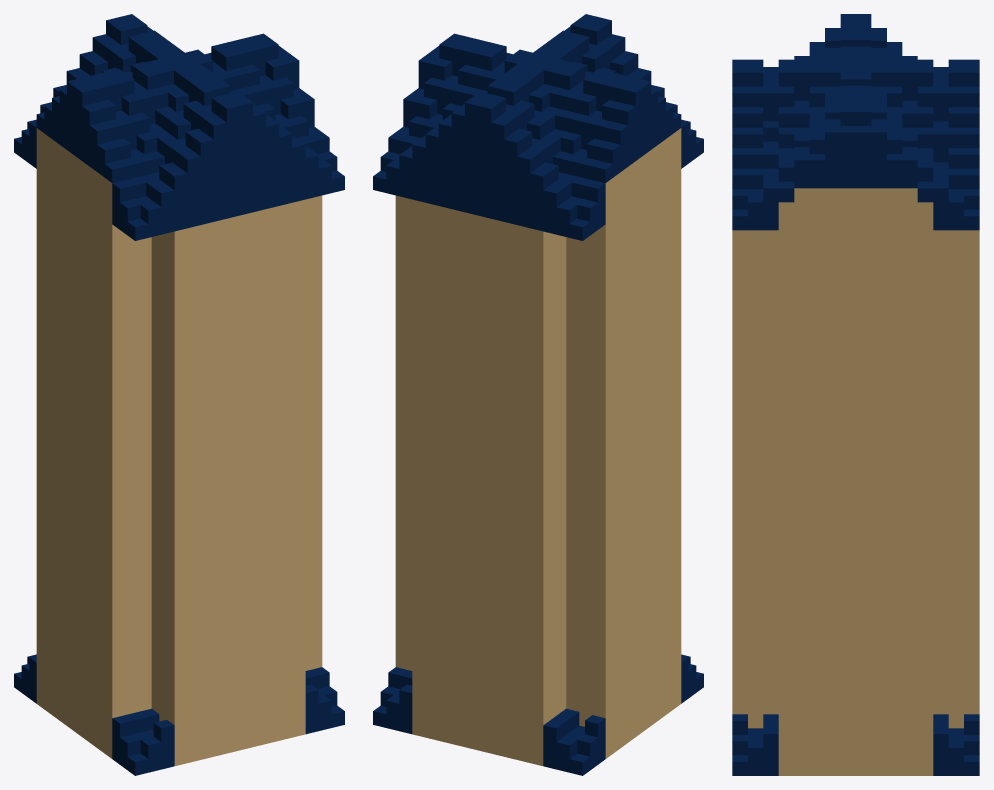
The model's file is OutsideWalls_TiledXSection.obj.
3 renders of one model, left to right at view 1: azimuth 30°, elevation 25°; view 2: azimuth 150°, elevation 25°; view 3: azimuth 270°, elevation 25°, orthographic. The views are drawn at different scales.
Parts seen in each view (by area): view 1: OutsideWalls_TiledXSection; view 2: OutsideWalls_TiledXSection; view 3: OutsideWalls_TiledXSection.
Boxes of the visible parts, x1,y1,x2,y2 form: OutsideWalls_TiledXSection: (14,14,344,775); OutsideWalls_TiledXSection: (373,14,703,775); OutsideWalls_TiledXSection: (732,14,979,775).
Bounding box in the file's own units: 16 × 47 × 16.
1 material, 1 textured.
